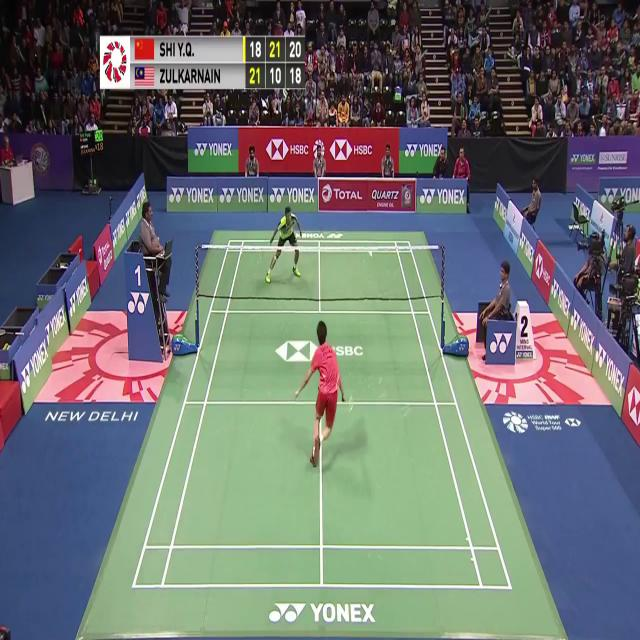Shuttlecock: (368, 248, 374, 259)
